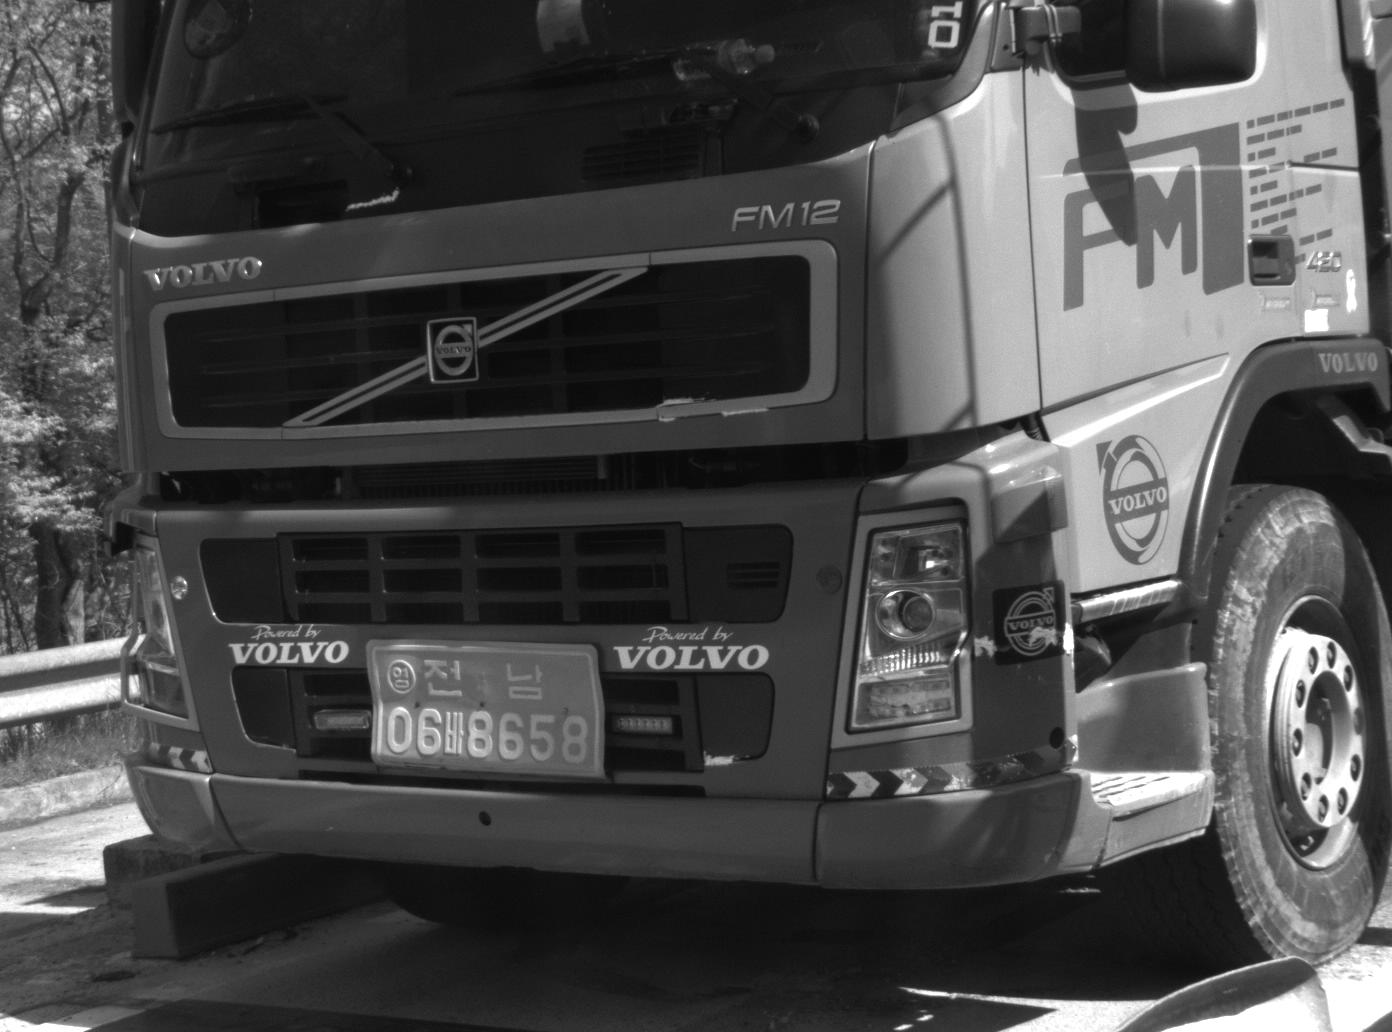car: (90, 1, 1392, 977)
plate: (361, 636, 609, 781)
